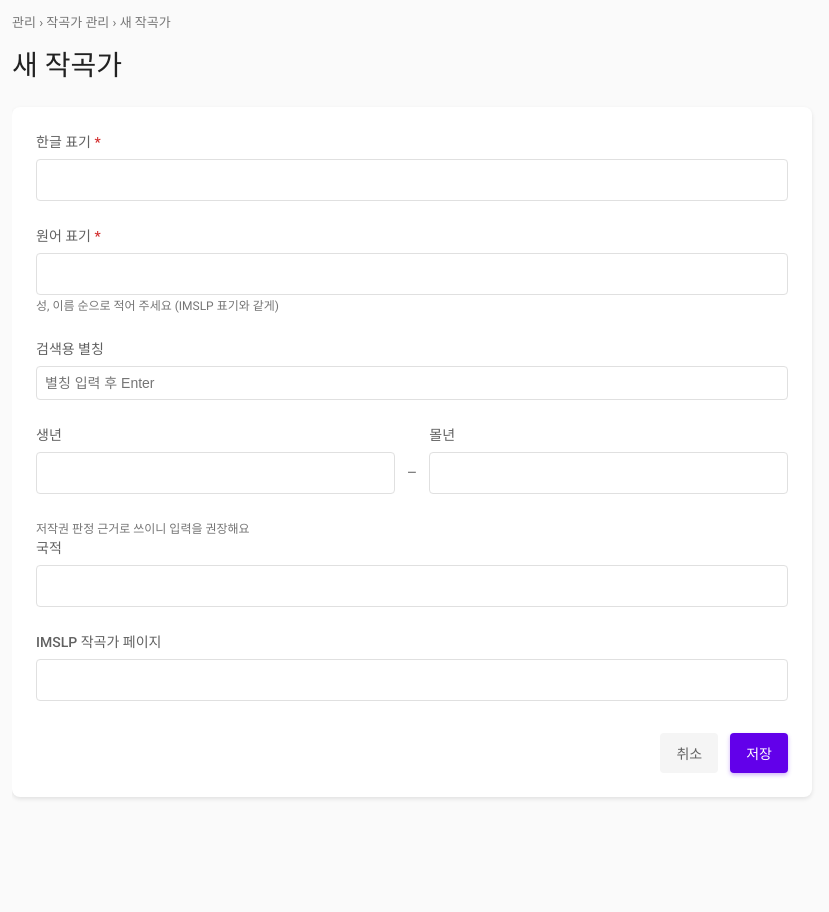
ComposerFormPage — 등록 › 필수값이 비면 '입력을 확인해 주세요' + 필드별 문구, 저장 요청 없음
Click the button "저장".
click(759, 753)  # box [730,733,788,773]
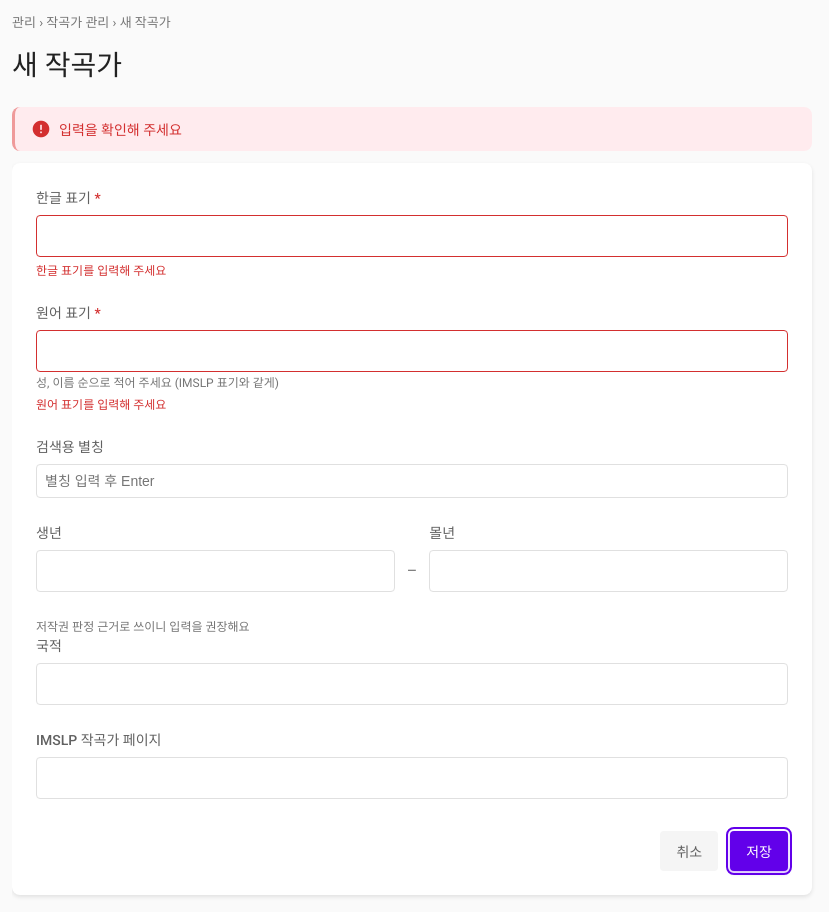
Expected: the text "입력을 확인해 주세요" is shown, [59,119,182,139]
Expected: the text "한글 표기를 입력해 주세요" is shown, [36,264,166,278]
Expected: the text "원어 표기를 입력해 주세요" is shown, [36,398,166,412]
